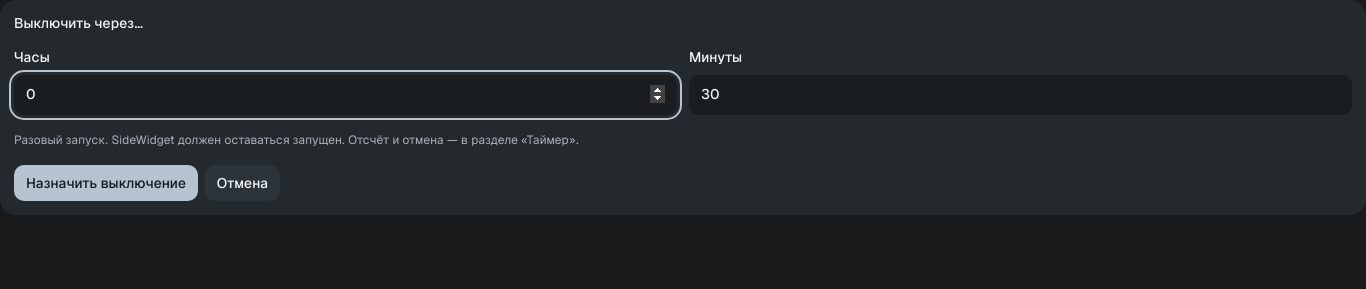
treats an empty hours field as zero and rejects invalid ranges
The width and height of the screenshot is (1366, 289).
Later steps or results of the test are not shown.
Replace the text in the number field labelled "Часы" with "24": {"x": 346, "y": 95} [14,75,677,115]
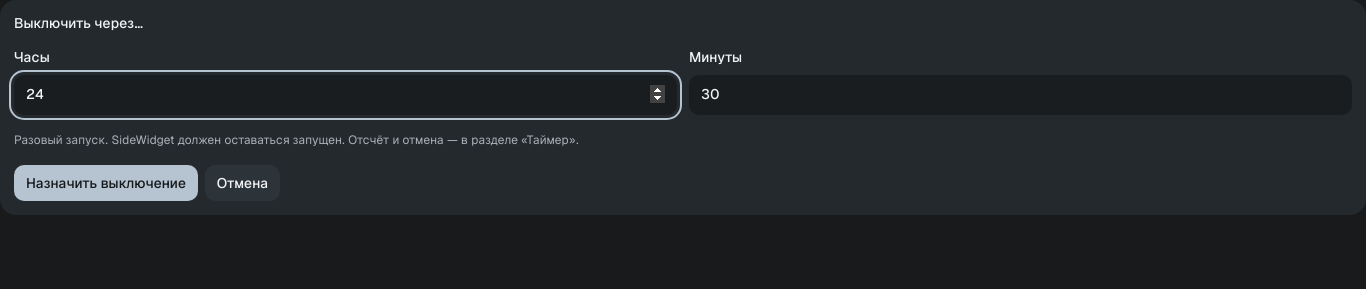
Replace the text in the number field labelled "Минуты" with "1": {"x": 1020, "y": 95} [689,75,1352,115]
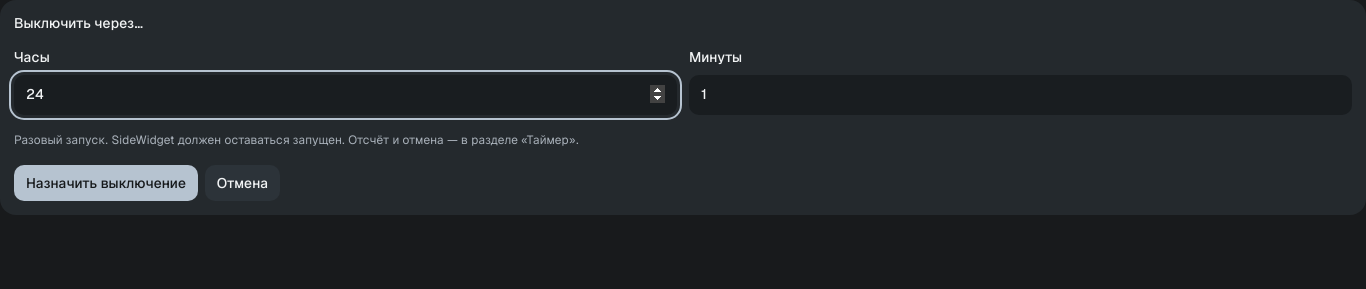
Click the button "Назначить выключение": {"x": 106, "y": 183} [14,165,198,201]
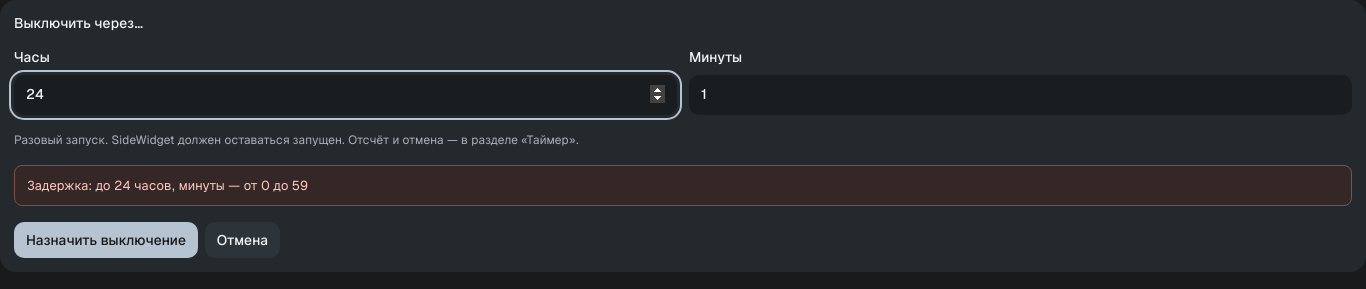
Expected: the message shows "до 24 часов", [27,177,308,194]
